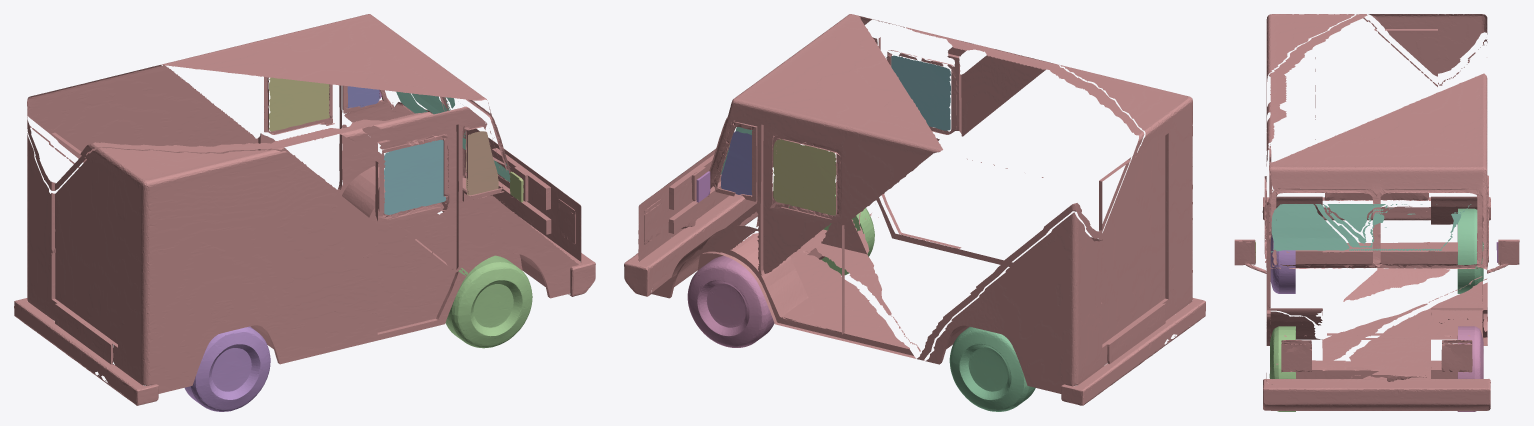
Rendered from tk_parts.glb.
The picture shows the model from 3 angles, left to right: view 1: azimuth 30°, elevation 25°; view 2: azimuth 150°, elevation 25°; view 3: azimuth 270°, elevation 25°; orthographic projection. The views are drawn at different scales.
Parts seen in each view (by area): view 1: part0, part6, part2, part4, part3, part8, part9, part7; view 2: part0, part5, part1, part3, part4, part7, part6; view 3: part0, part9, part1, part2, part5, part6.
Boxes of the visible parts, bbox=[...] form: part0: bbox=[14, 14, 595, 405]; part6: bbox=[445, 255, 532, 348]; part2: bbox=[184, 326, 270, 411]; part4: bbox=[384, 139, 446, 214]; part3: bbox=[269, 77, 329, 131]; part8: bbox=[466, 131, 498, 195]; part9: bbox=[396, 91, 510, 181]; part7: bbox=[347, 86, 379, 108]; part0: bbox=[624, 14, 1205, 405]; part5: bbox=[687, 255, 774, 347]; part1: bbox=[949, 327, 1035, 411]; part3: bbox=[773, 139, 836, 215]; part4: bbox=[891, 55, 950, 130]; part7: bbox=[721, 131, 751, 195]; part6: bbox=[789, 194, 874, 276]; part0: bbox=[1234, 14, 1519, 410]; part9: bbox=[1271, 204, 1471, 252]; part1: bbox=[1457, 208, 1483, 293]; part2: bbox=[1270, 234, 1295, 293]; part5: bbox=[1457, 326, 1483, 411]; part6: bbox=[1269, 326, 1295, 411].
Bounding box in the file's own units: 0.9983 × 0.5304 × 0.5805.
